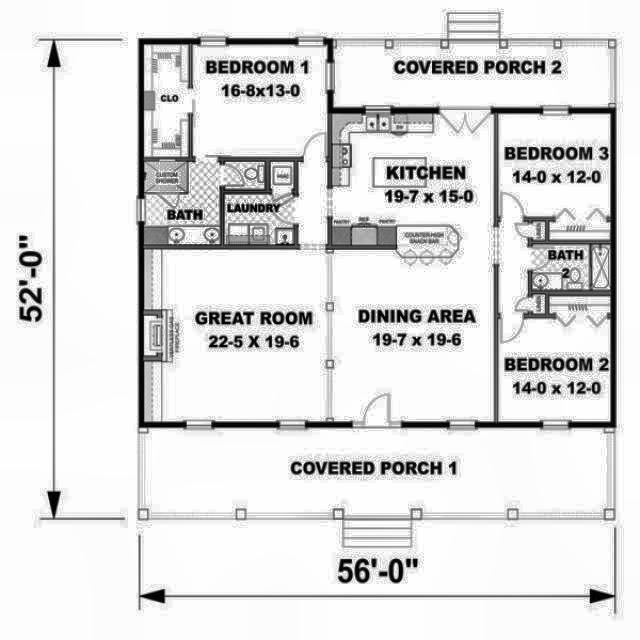room: (144, 114, 545, 421), (147, 432, 604, 510), (144, 45, 327, 157), (336, 47, 608, 102), (498, 113, 610, 241), (498, 294, 610, 421), (145, 162, 220, 244), (223, 161, 294, 244), (532, 245, 611, 290), (225, 161, 265, 188)
